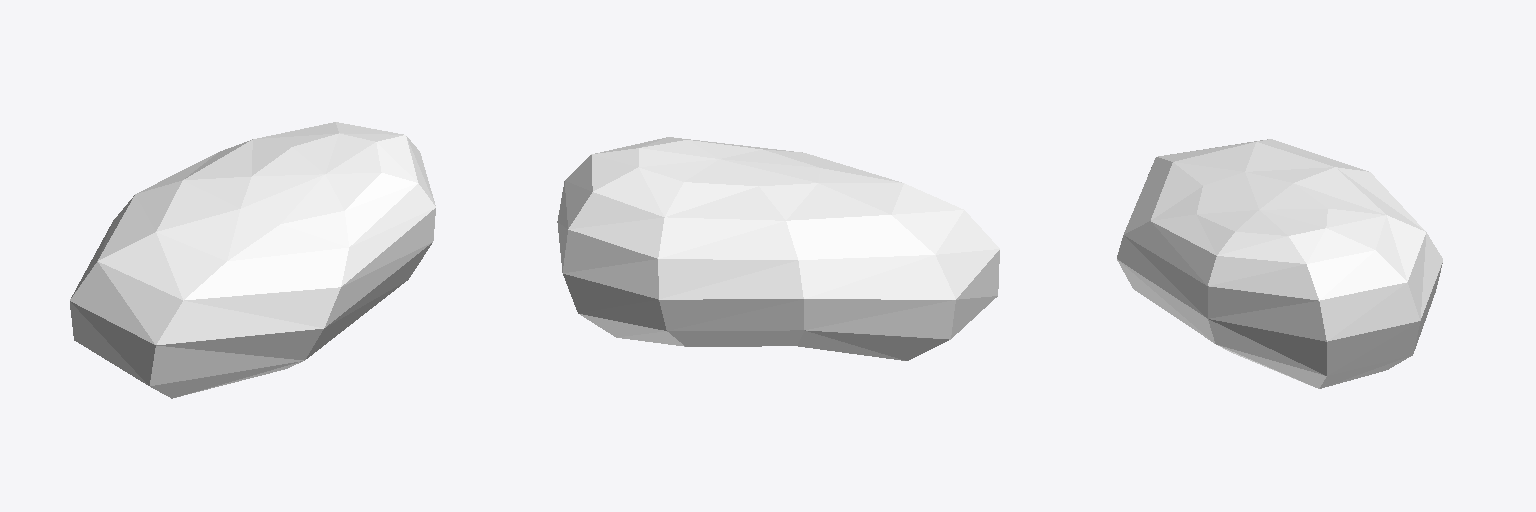
File: rock5.obj
3 renders of one model, left to right at view 1: azimuth 30°, elevation 25°; view 2: azimuth 150°, elevation 25°; view 3: azimuth 270°, elevation 25°, orthographic.
Parts seen in each view (by area): view 1: Rock_5_Sphere; view 2: Rock_5_Sphere; view 3: Rock_5_Sphere.
Part boxes in pixels (left/top/right/bottom): Rock_5_Sphere: left=70, top=122, right=435, bottom=398; Rock_5_Sphere: left=557, top=137, right=999, bottom=360; Rock_5_Sphere: left=1117, top=139, right=1442, bottom=388.
Bounding box in the file's own units: 2.84 × 1.17 × 2.15.